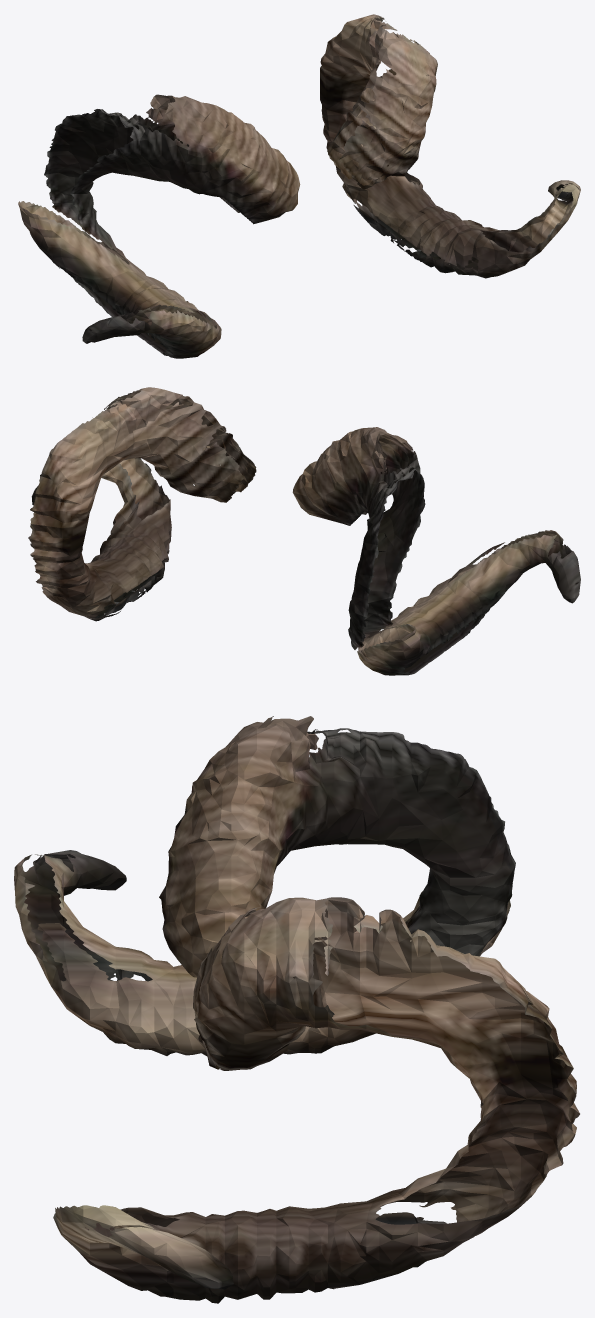
The model's file is ramhorns.glb.
3 renders of one model, top to bottom at view 1: azimuth 30°, elevation 25°; view 2: azimuth 150°, elevation 25°; view 3: azimuth 270°, elevation 25°, orthographic. The views are drawn at different scales.
Visible parts, largest first — view 1: geometry_0; view 2: geometry_0; view 3: geometry_0.
Boxes of the visible parts, left/top/right/bottom form: geometry_0: left=18, top=14, right=580, bottom=358; geometry_0: left=28, top=387, right=580, bottom=675; geometry_0: left=14, top=716, right=579, bottom=1303.
Size of the model in its own units: 1.02 by 0.4329 by 0.6015.
Materials: 1 (1 with a texture image).
